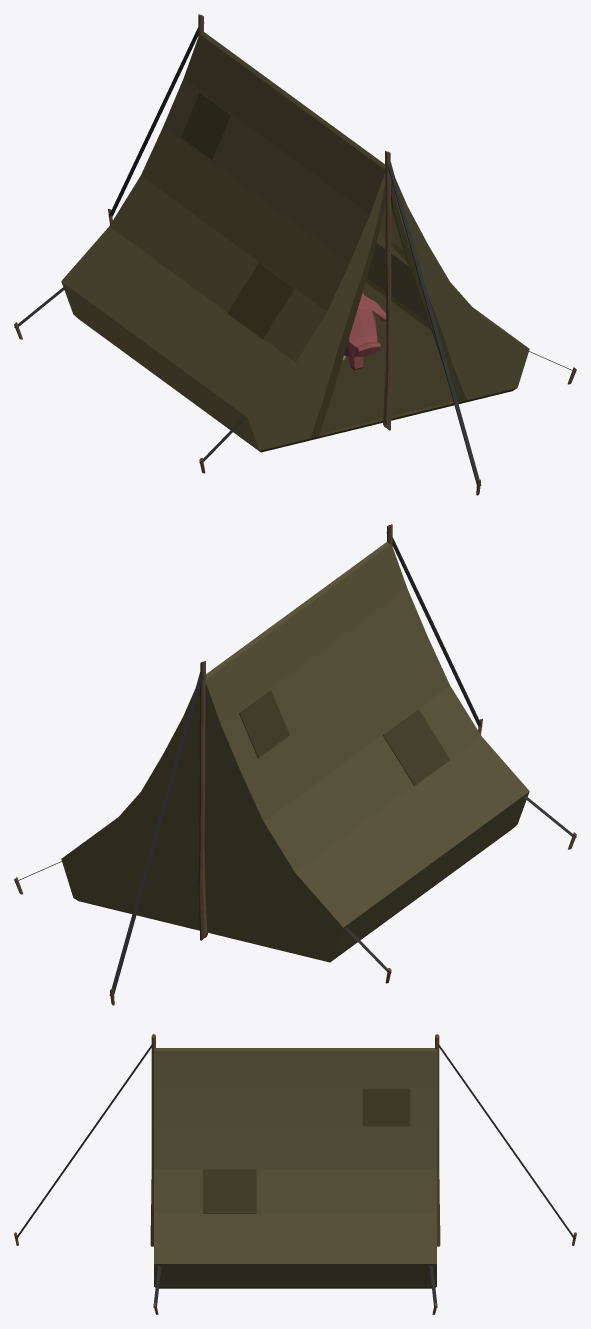
The model's file is props.glb.
The picture shows the model from 3 angles, top to bottom: view 1: azimuth 30°, elevation 25°; view 2: azimuth 150°, elevation 25°; view 3: azimuth 270°, elevation 25°; orthographic projection. The views are drawn at different scales.
Visible parts, largest first — view 1: Tent, Pig_Cylinder; view 2: Tent; view 3: Tent.
Part boxes in pixels (x1,y1,x2,y2): Tent: [14, 14, 576, 495]; Pig_Cylinder: [344, 293, 385, 369]; Tent: [14, 524, 576, 1005]; Tent: [14, 1034, 576, 1314].
Bounding box in the file's own units: 14.58 × 10.8 × 24.87.
